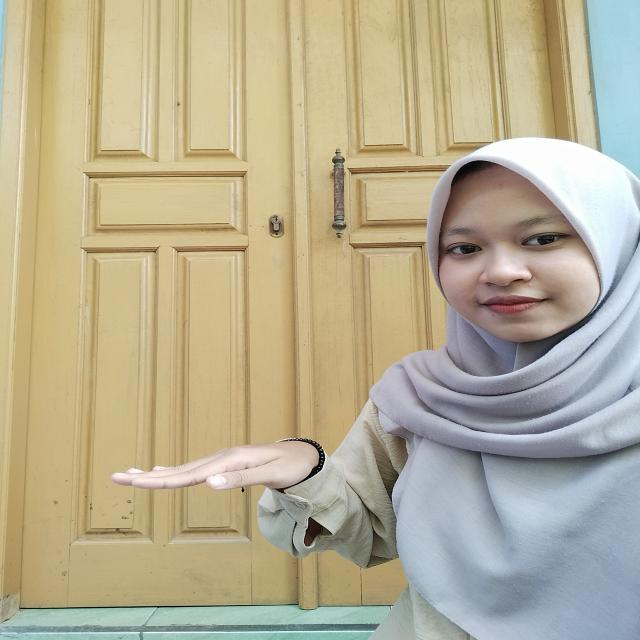adik: (98, 433, 352, 502)
